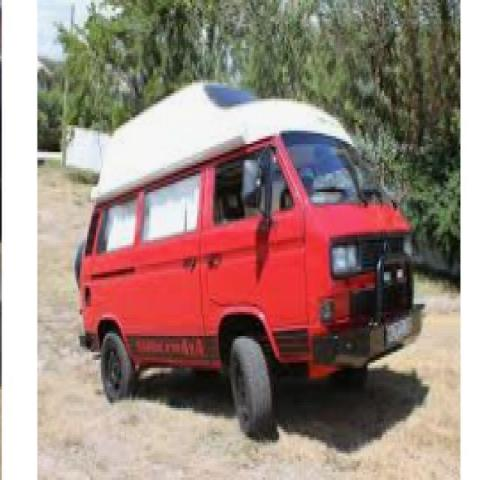van: (77, 77, 421, 440)
